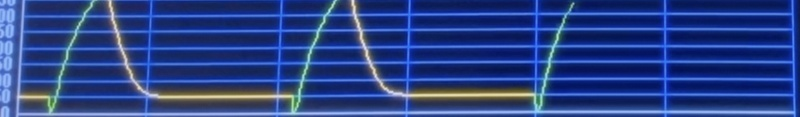leakage: (16, 0, 527, 117)
